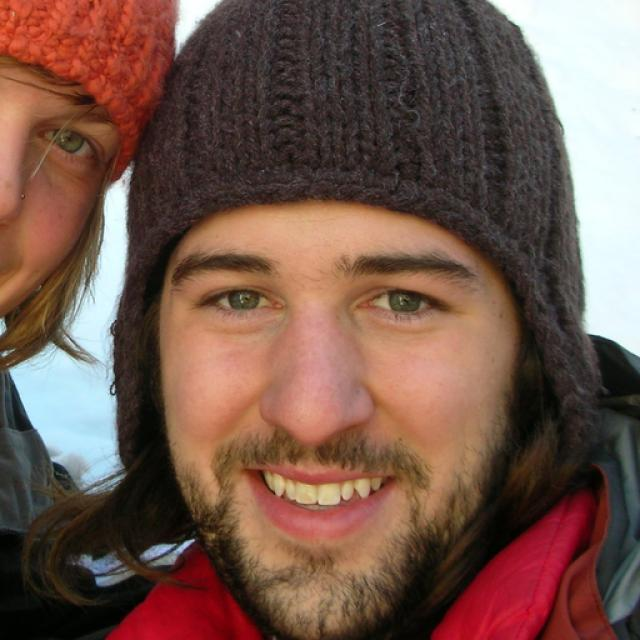happy: (155, 202, 515, 637), (0, 11, 118, 324)
